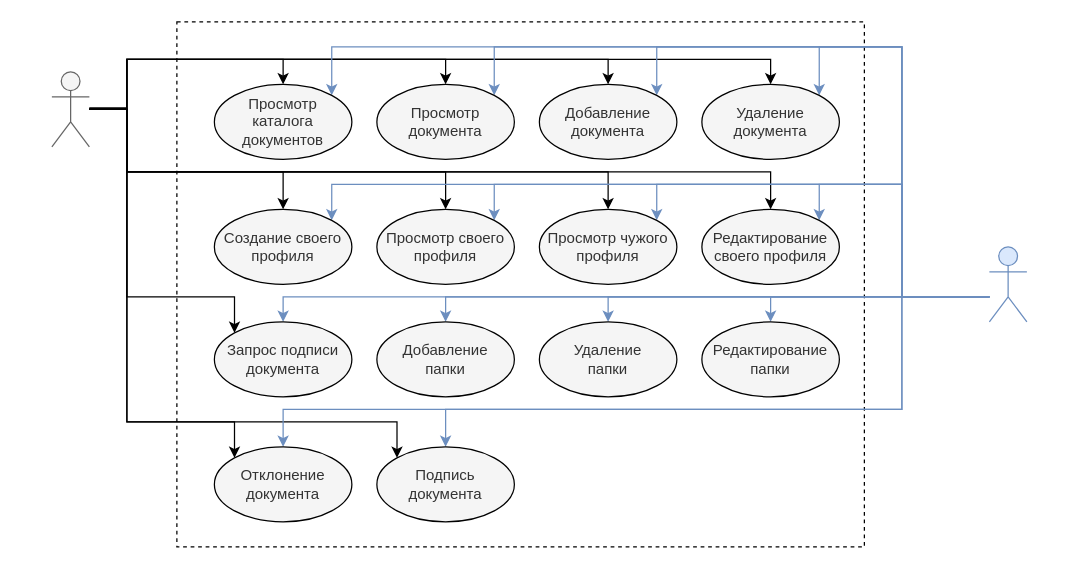
The diagram is 1084 pixels wide and 569 high, and some of its shapes have lost their labels. The box of each missing label's shape, as (x1, y1, x2, y2) in pixels:
Администратор: (988, 246, 1027, 322)
Пользователь: (51, 71, 89, 147)
